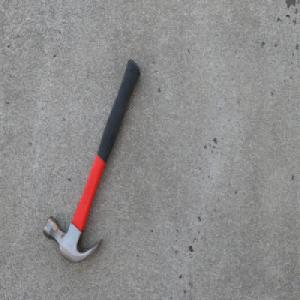Hammer: (42, 57, 141, 264)
